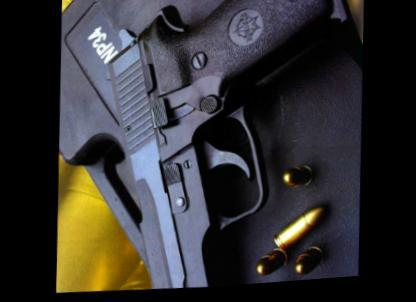pistol: (94, 0, 349, 294)
